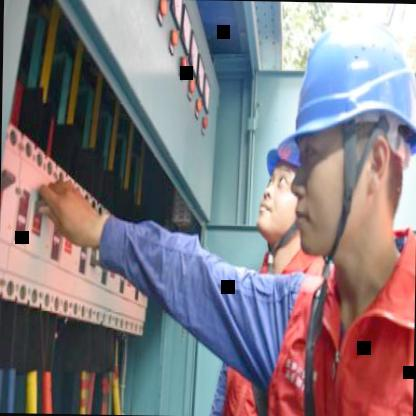helmet: (272, 3, 416, 275), (255, 128, 302, 244)
